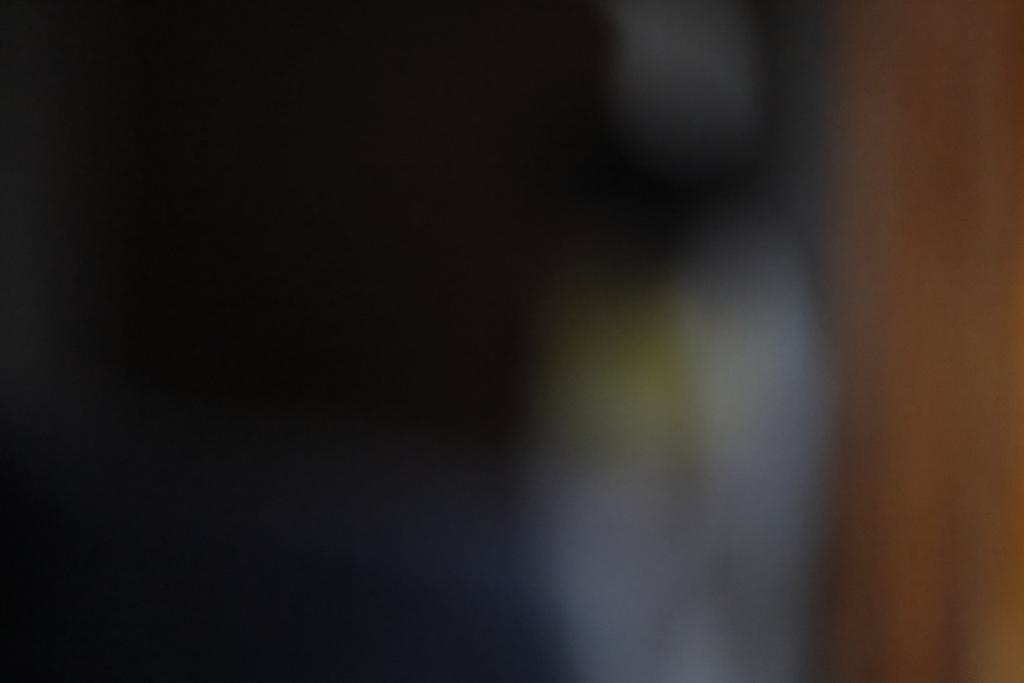Dog: (451, 0, 868, 683)
